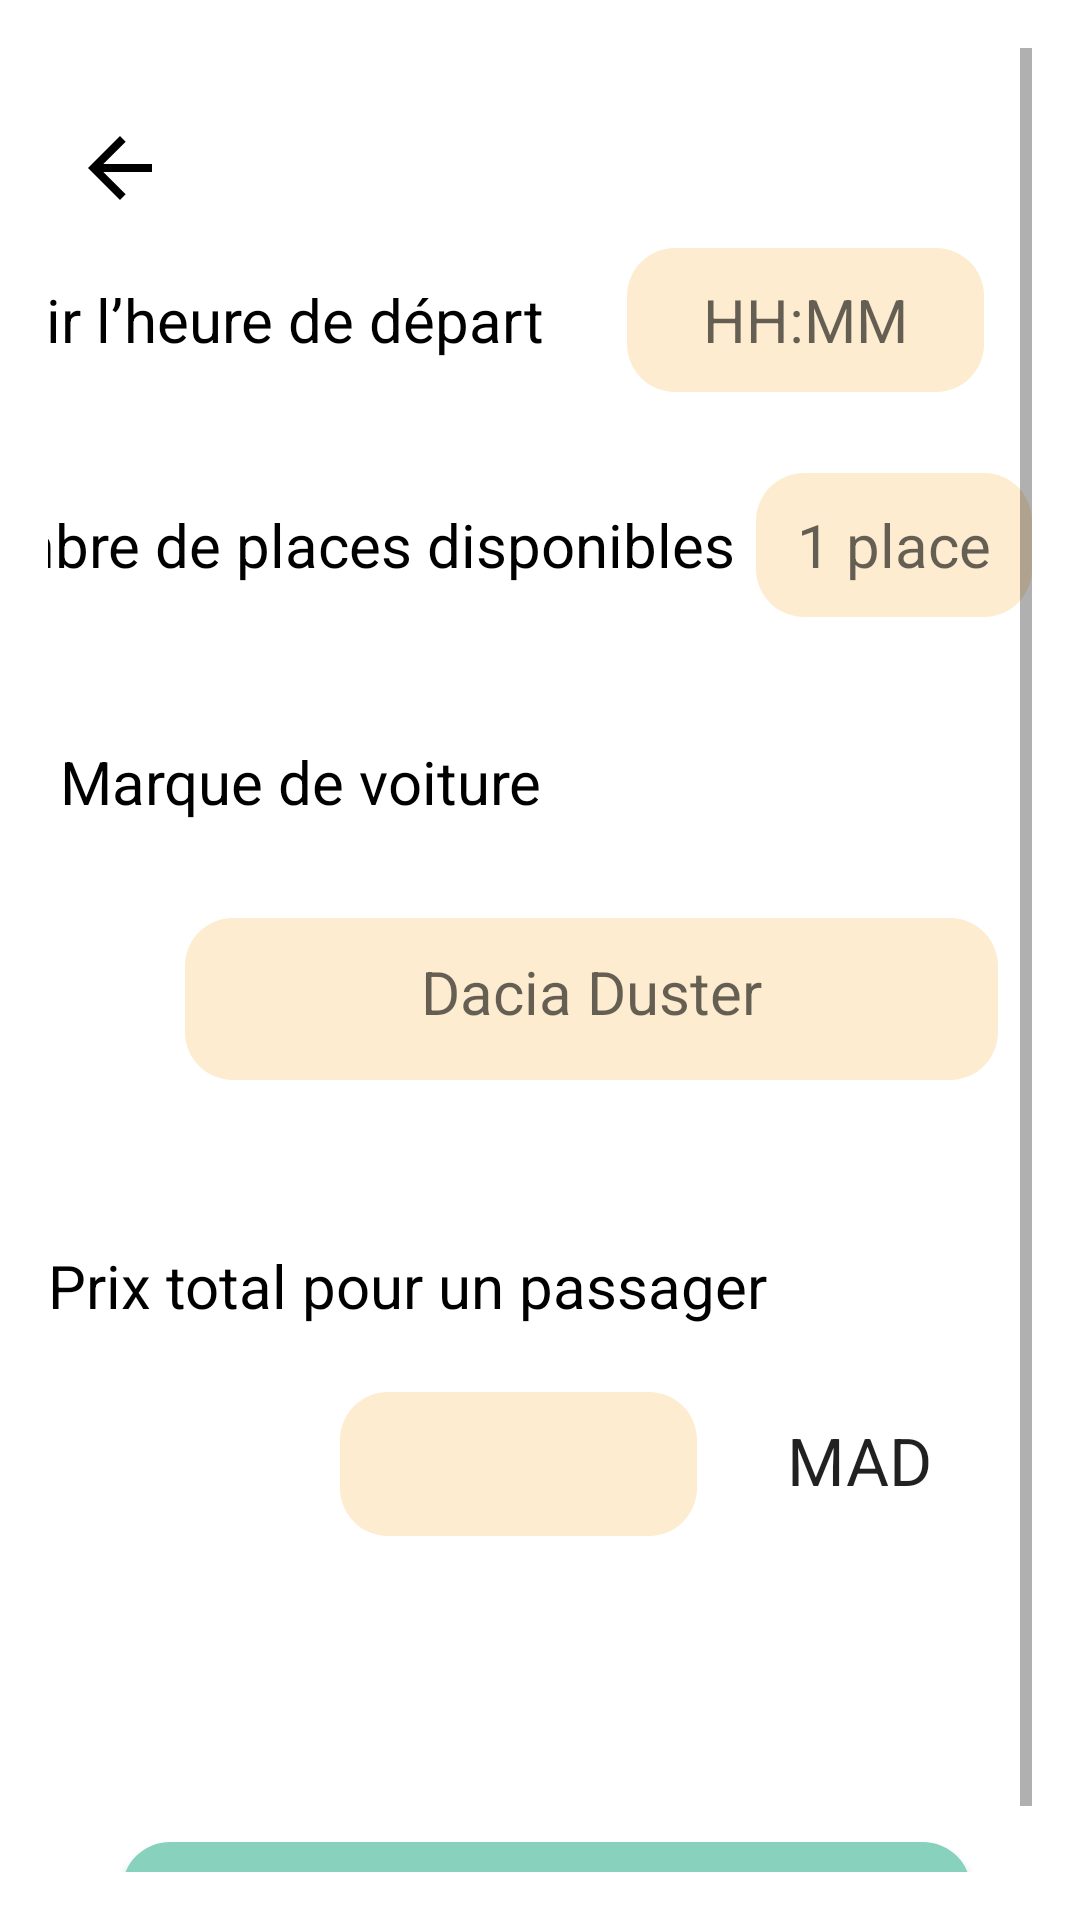

Icons on this 1080*1920 Android screen, each with its box as BBox(x1, y1, x2, y2):
Go back: BBox(88, 136, 152, 200)
